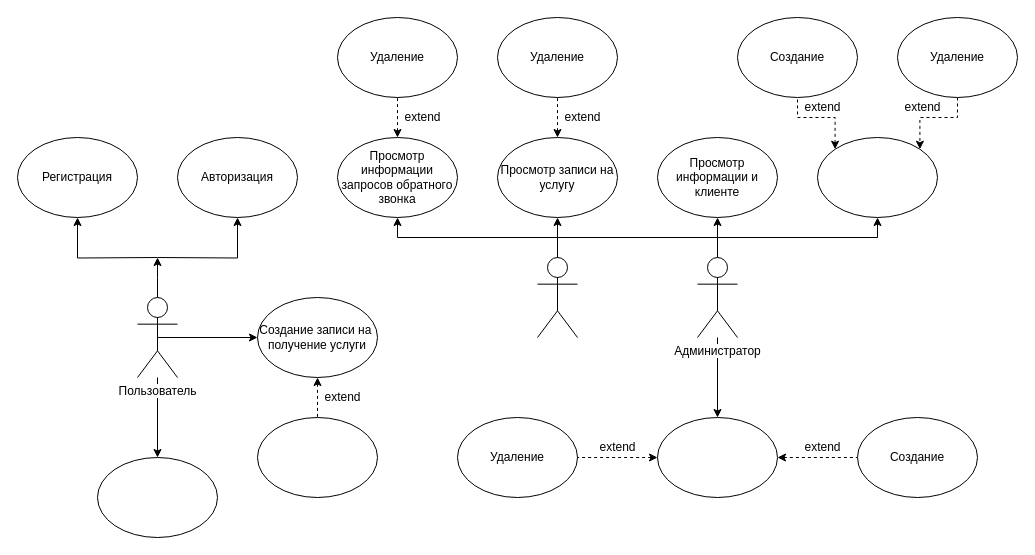
This 1035x555 diagram has some shape labels left out. Each missing label, with the centre of its shape:
Менеджер: the point at 557,297
Отправка формы обратного звонка: the point at 157,497
Просмотр информации о мастере: the point at 877,177
Просмотр информации об управляющем персонале: the point at 717,457
Удаление записи на получение услуги: the point at 317,457
